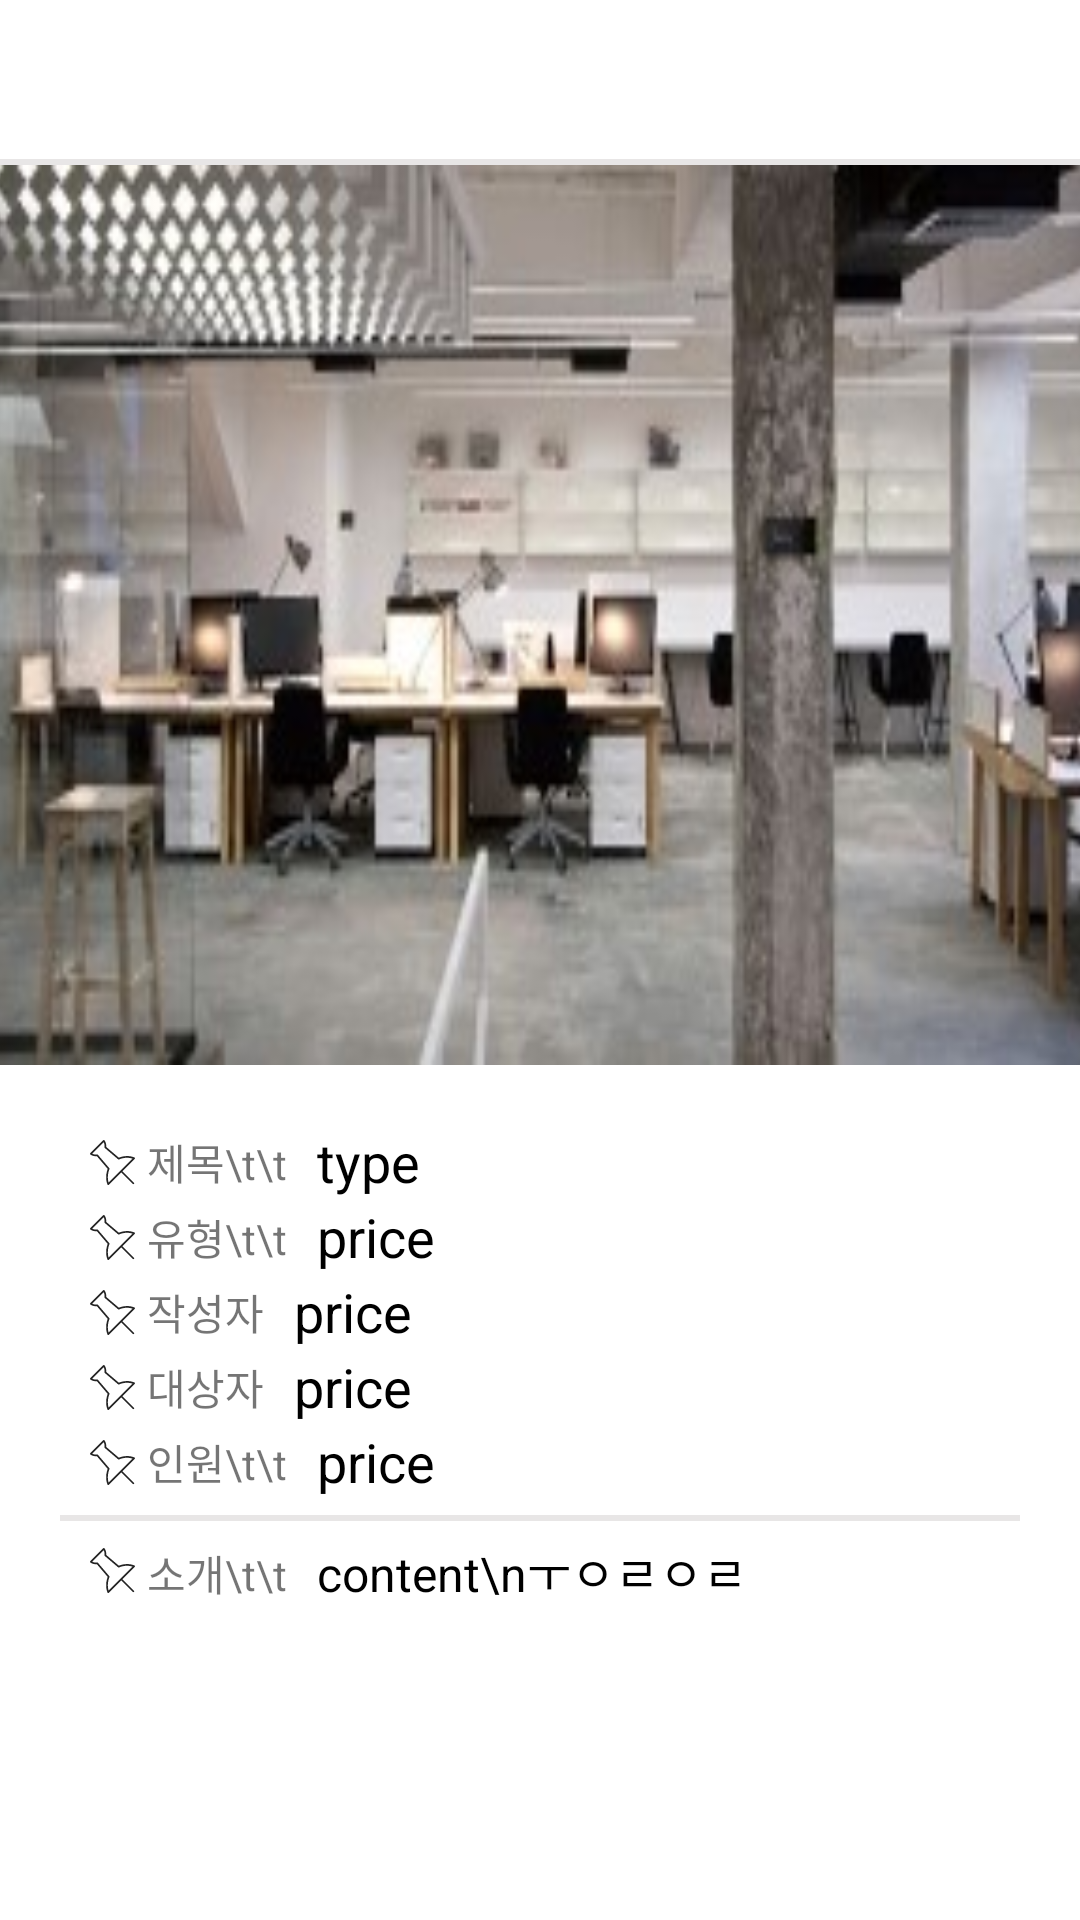

Where icons sit on this 1080×1920 app screen, as bbox=(x1, y1, x2, y2):
pushpin: bbox=(90, 1140, 135, 1185), bbox=(90, 1215, 135, 1260), bbox=(90, 1290, 135, 1335), bbox=(90, 1365, 135, 1410), bbox=(90, 1440, 135, 1485), bbox=(90, 1548, 135, 1593)
